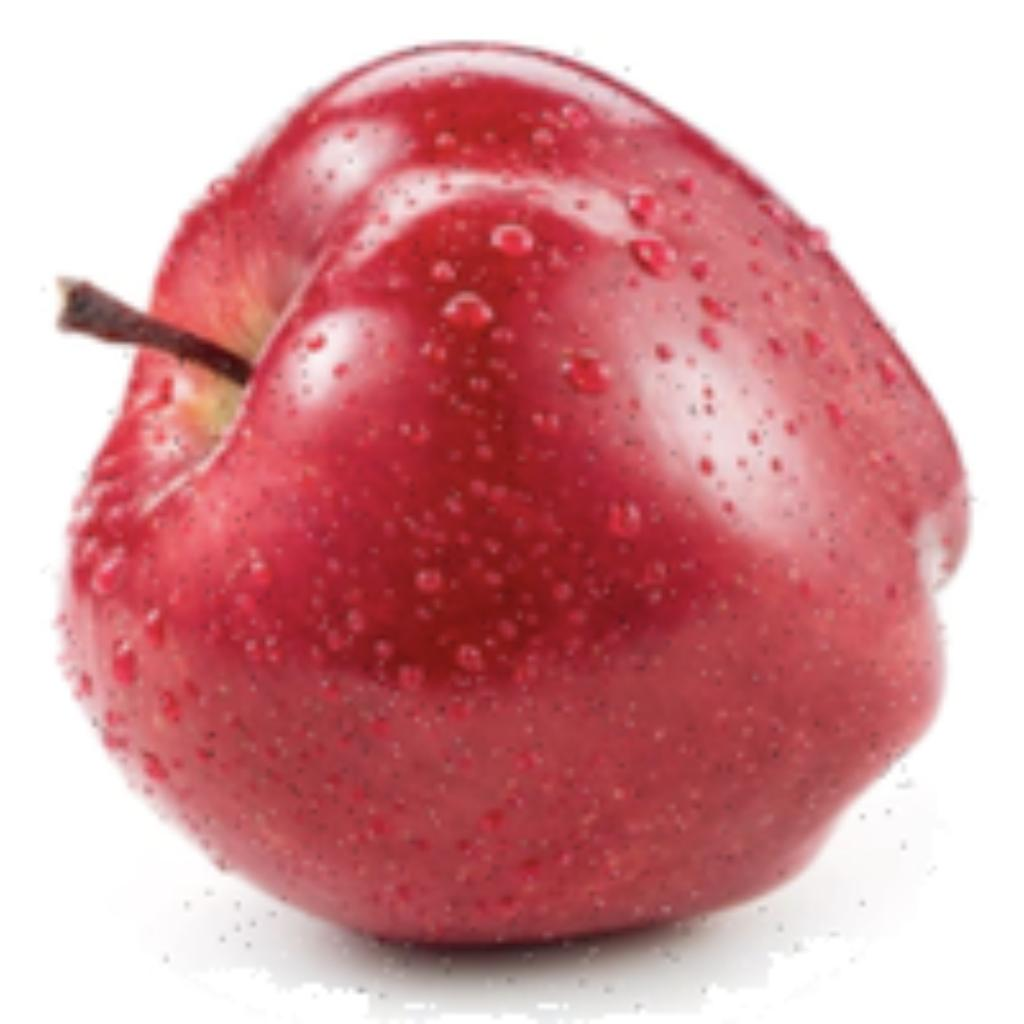apple: (36, 36, 983, 1019)
